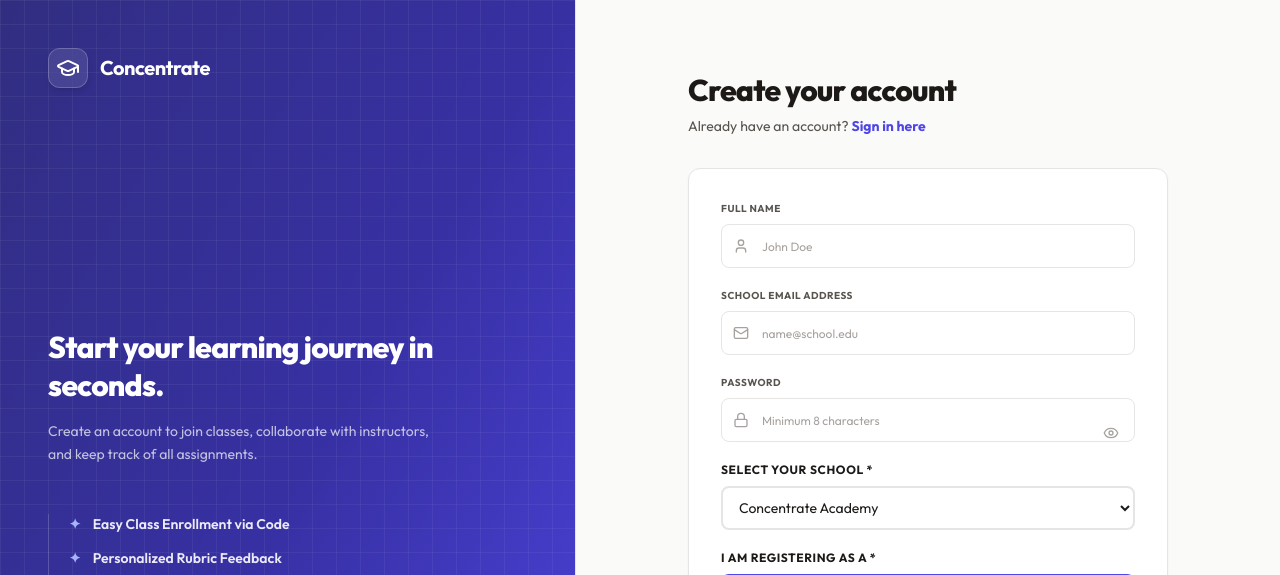
it: RegisterPage › shows the password strength meter as the password gets stronger
Type "weakweak" into the password field with placeholder "Minimum 8 characters". click: [928, 420]
box: [721,398,1135,442]
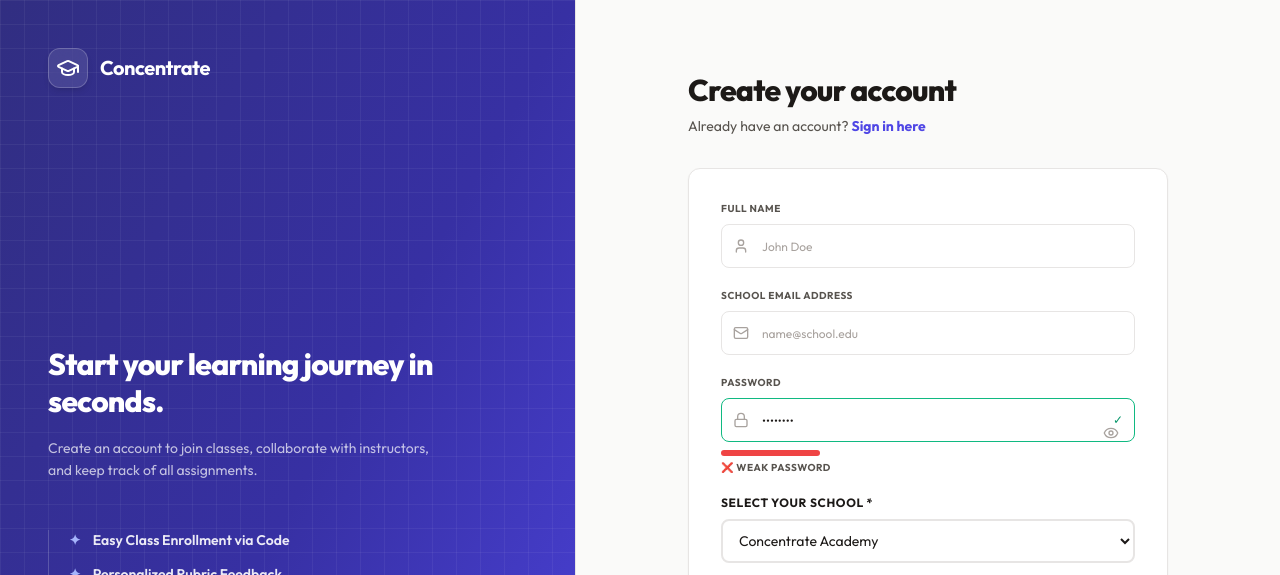
Result: the text "❌ Weak password" is shown at [721,461,831,474]
Type "Str0ng!Pass" into the password field with placeholder "Minimum 8 characters". click: [928, 420]
box: [721,398,1135,442]
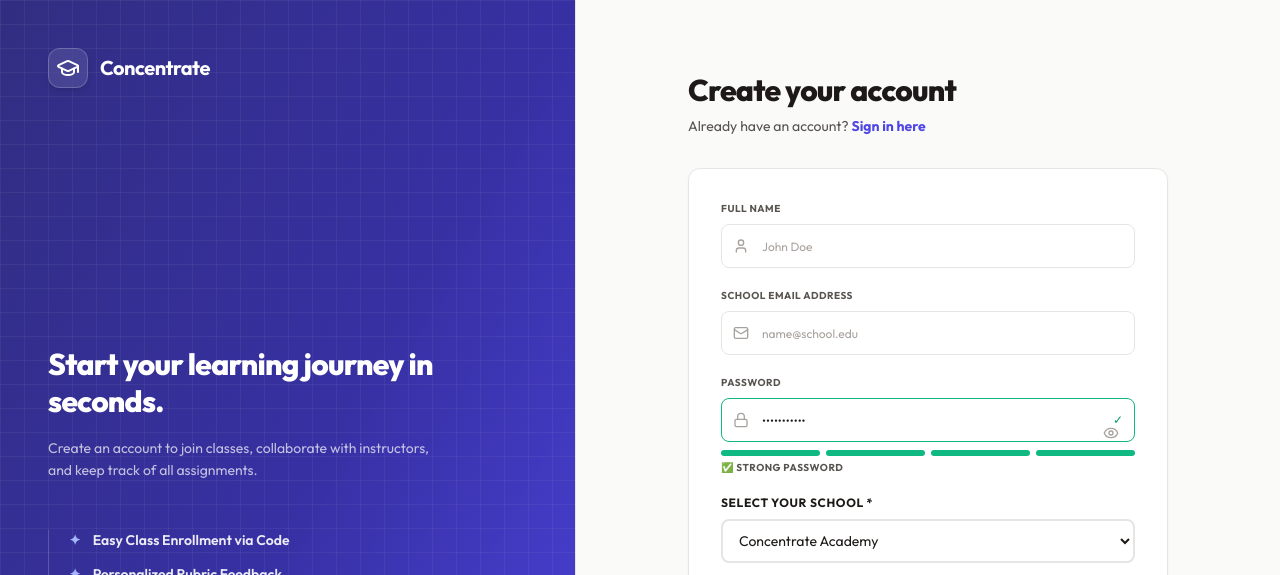
Result: the text "✅ Strong password" is shown at [721,461,843,474]
